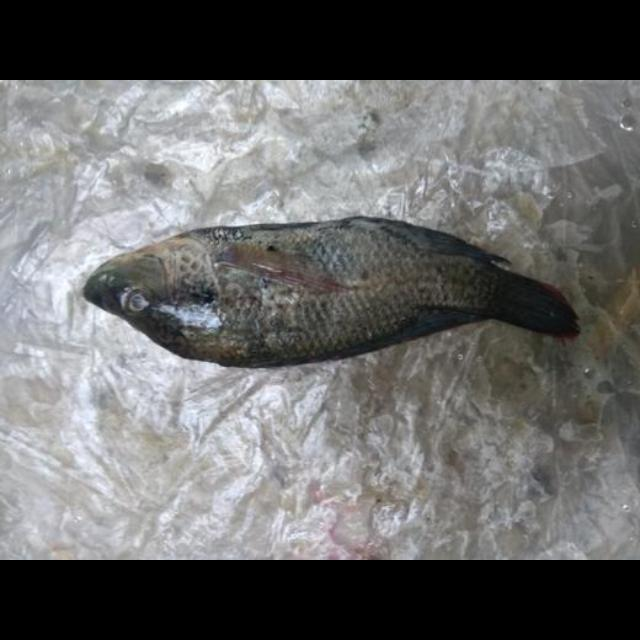Tilapia: (80, 215, 586, 367)
